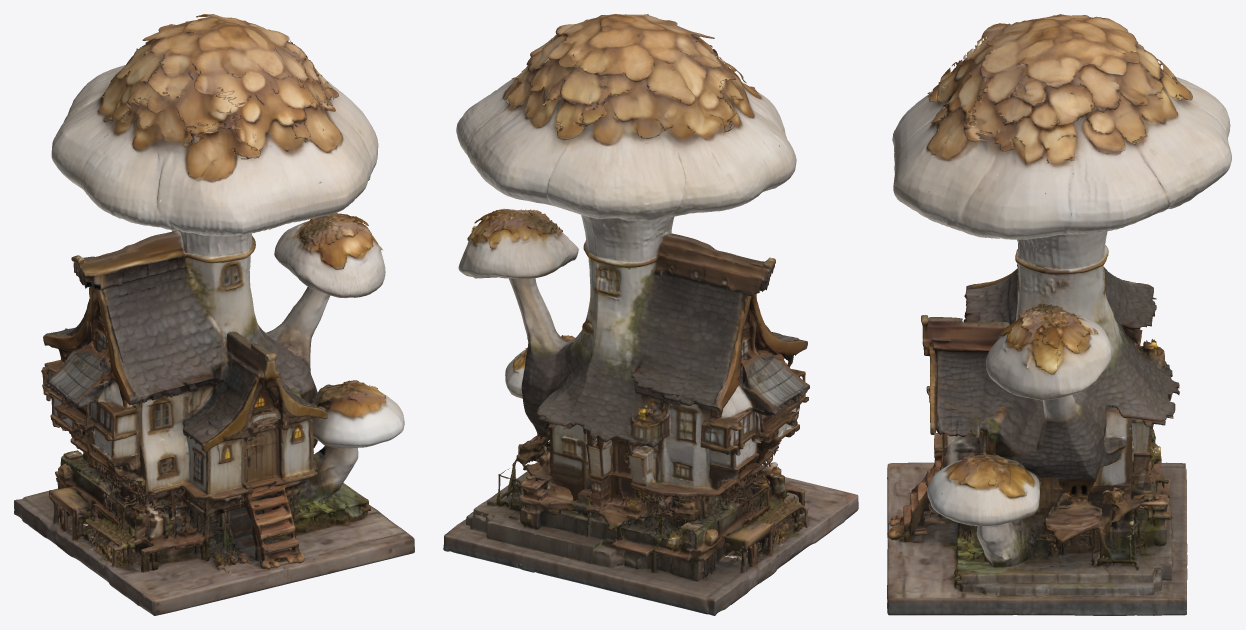
File: Meshy_AI_Toadstool_Tavern_1016212222_texture.fbx
3 views of the same model, side by side, from view 1: azimuth 30°, elevation 25°; view 2: azimuth 150°, elevation 25°; view 3: azimuth 270°, elevation 25° (orthographic). The views are drawn at different scales.
Visible parts, largest first — view 1: Mesh_0; view 2: Mesh_0; view 3: Mesh_0.
Part boxes in pixels (x1,y1,x2,y2): Mesh_0: (14, 14, 414, 615); Mesh_0: (443, 14, 858, 615); Mesh_0: (887, 14, 1231, 615).
Size of the model in its own units: 134 by 199 by 118.
1 material, 1 textured.
